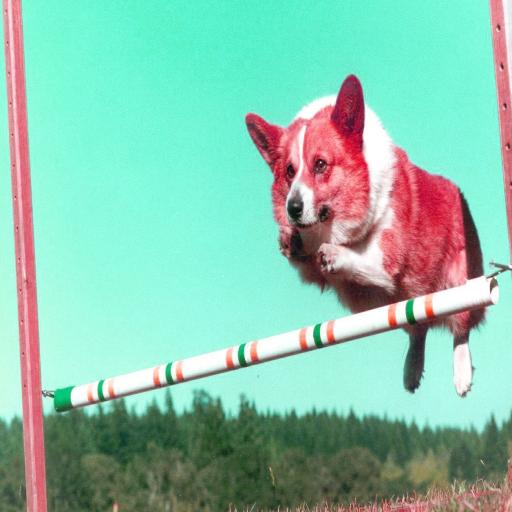dog_face: (244, 78, 371, 244)
